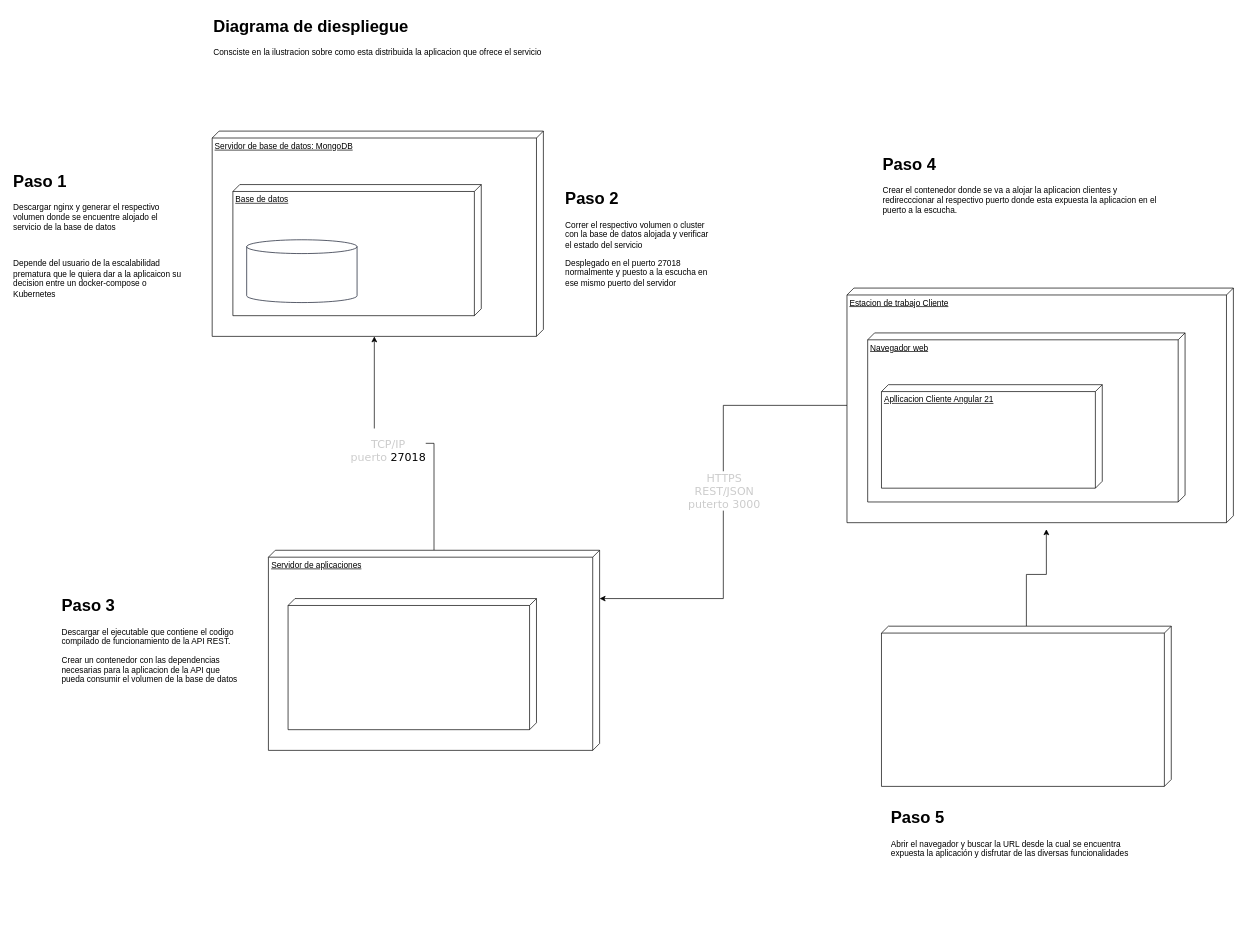
The diagram is 1245 pixels wide and 941 high, and some of its shapes have lost their labels. Each missing label, with the centre of its shape:
"Cliente" belongs at (x=1026, y=705).
"gestion_documental" belongs at (x=301, y=271).
"Nest 11 API REST" belongs at (x=411, y=664).
